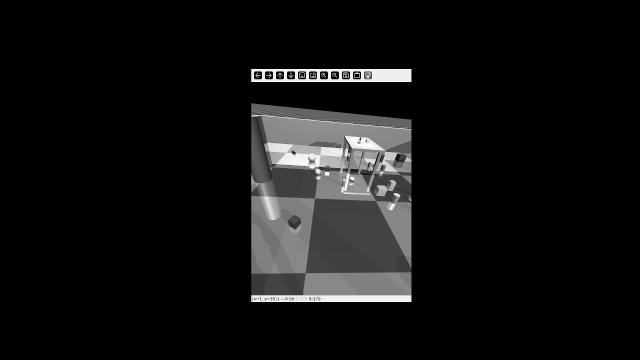cilindro: (251, 115, 277, 185), (388, 192, 402, 206), (288, 148, 299, 156), (380, 153, 388, 162), (379, 164, 388, 171), (341, 178, 347, 188), (348, 144, 353, 155), (360, 136, 362, 141)
cuadrado: (283, 213, 304, 232), (395, 150, 409, 164), (388, 178, 397, 189), (325, 164, 335, 171), (365, 137, 370, 143)
esfera: (307, 151, 318, 163), (345, 175, 358, 182), (314, 169, 324, 176), (407, 192, 412, 202), (357, 139, 362, 144)
rectangulo: (374, 184, 388, 195), (368, 159, 377, 169)
